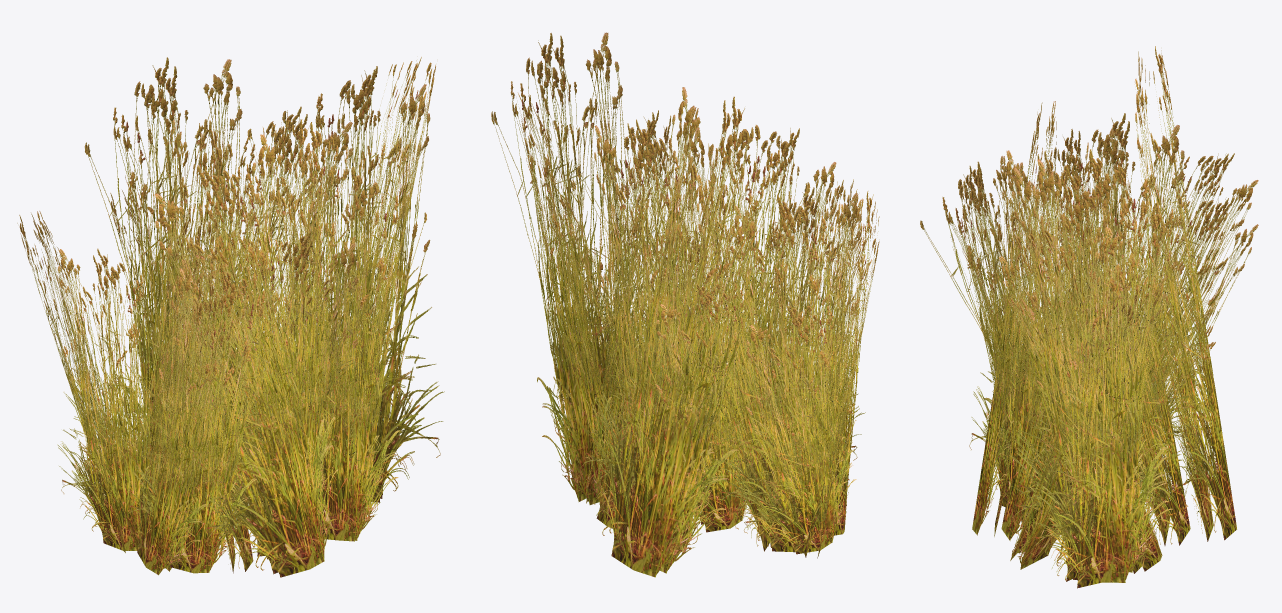
File: AfricanWheatGrass_01.DAE
3 renders of one model, left to right at view 1: azimuth 30°, elevation 25°; view 2: azimuth 150°, elevation 25°; view 3: azimuth 270°, elevation 25°, orthographic.
Visible parts, largest first — view 1: africaWheatGrassOne200, africaWheatGrassOne100; view 2: africaWheatGrassOne200, africaWheatGrassOne100; view 3: africaWheatGrassOne200, africaWheatGrassOne100.
Boxes of the visible parts, x1,y1,x2,y2 form: africaWheatGrassOne200: (17, 57, 444, 577); africaWheatGrassOne100: (31, 57, 440, 574); africaWheatGrassOne200: (491, 32, 879, 577); africaWheatGrassOne100: (493, 33, 879, 573); africaWheatGrassOne200: (921, 46, 1258, 588); africaWheatGrassOne100: (920, 51, 1258, 581).
Size of the model in its own units: 1.74 by 1.41 by 2.13.
